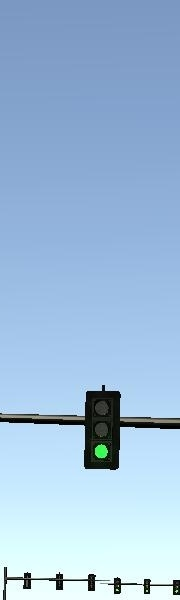Green: (84, 389, 120, 470)
